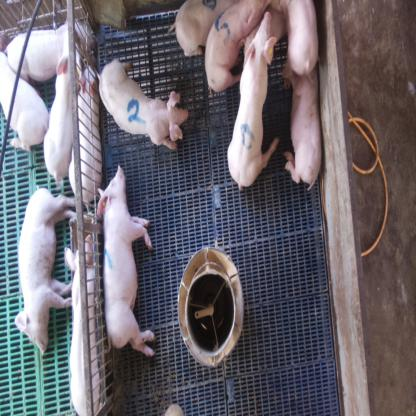2: (126, 98, 147, 125)
5: (215, 12, 231, 44)
N-A: (240, 122, 254, 148)
